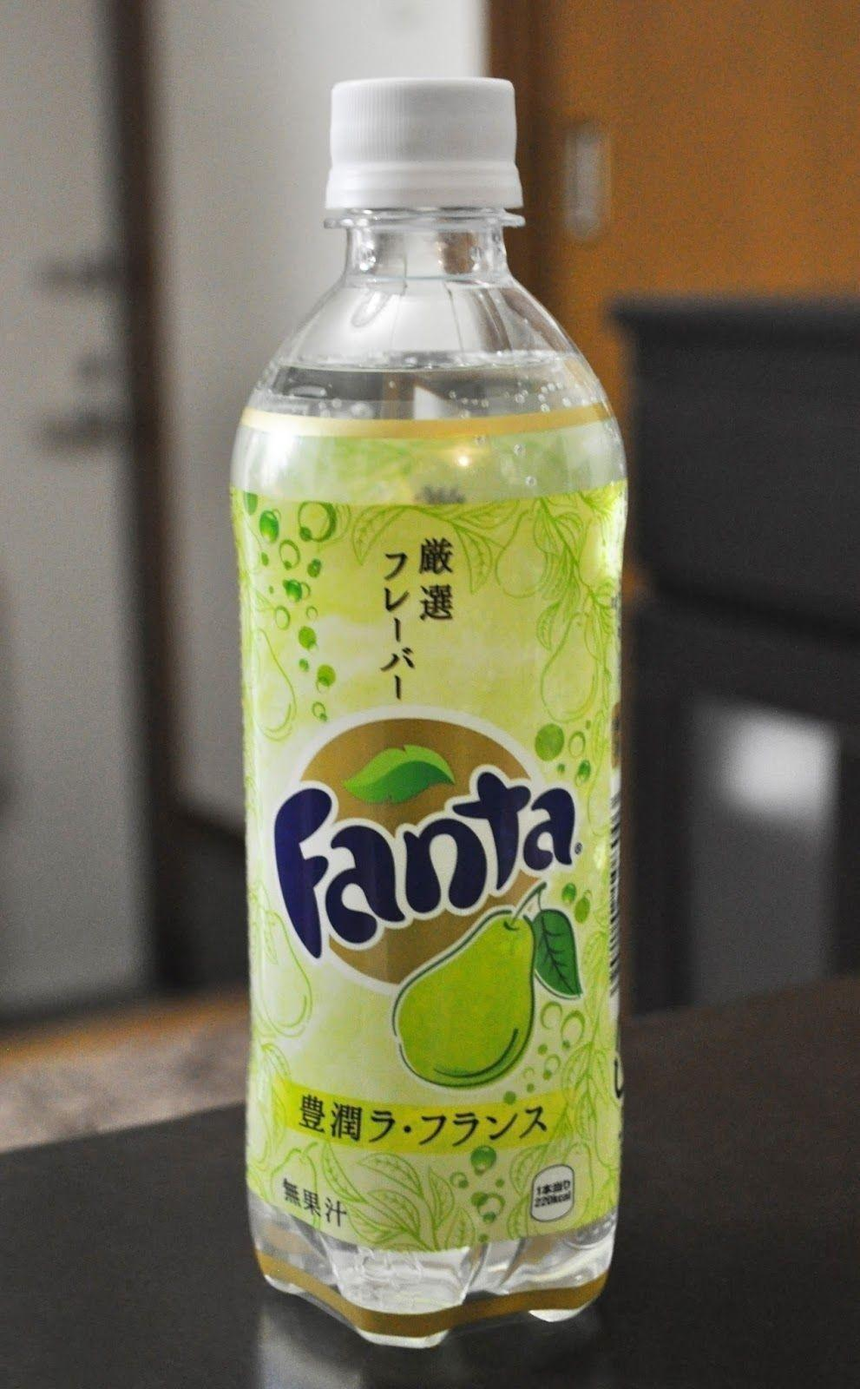bottle-plastic: (223, 72, 640, 1348)
